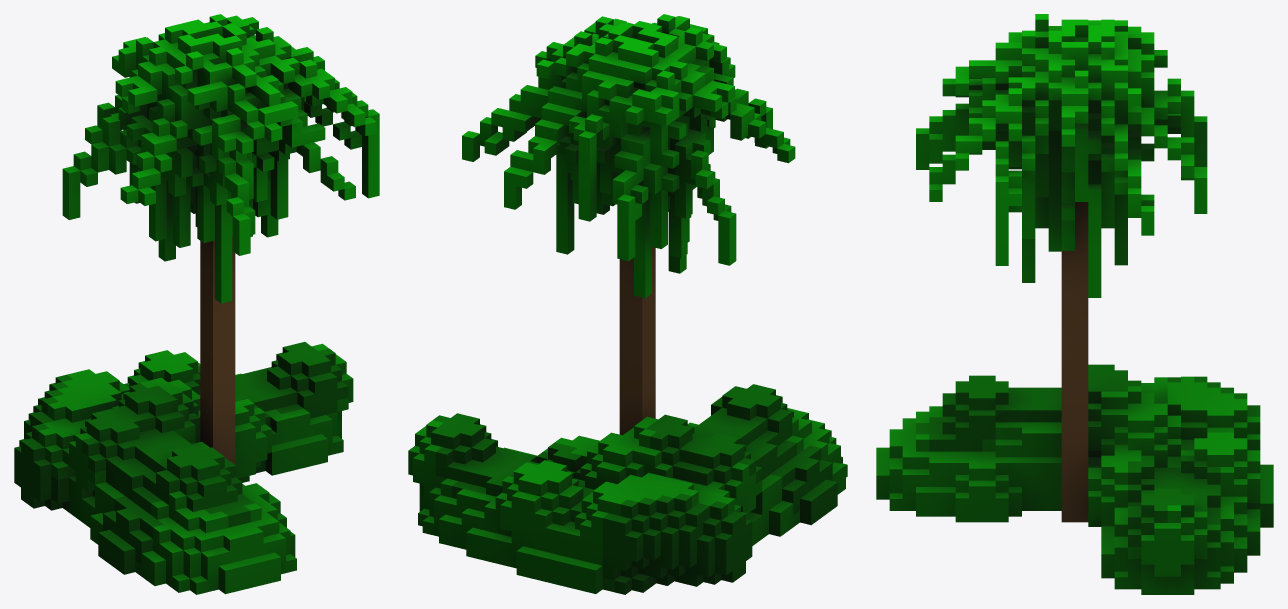
File: plant.gltf
3 renders of one model, left to right at view 1: azimuth 30°, elevation 25°; view 2: azimuth 150°, elevation 25°; view 3: azimuth 270°, elevation 25°, orthographic. The views are drawn at different scales.
Parts seen in each view (by area): view 1: plant; view 2: plant; view 3: plant.
Part boxes in pixels (box(x1,y1,x2,y2)): plant: box(14, 14, 379, 594); plant: box(408, 14, 847, 594); plant: box(876, 14, 1273, 594).
Bounding box in the file's own units: 28 × 40 × 30.
